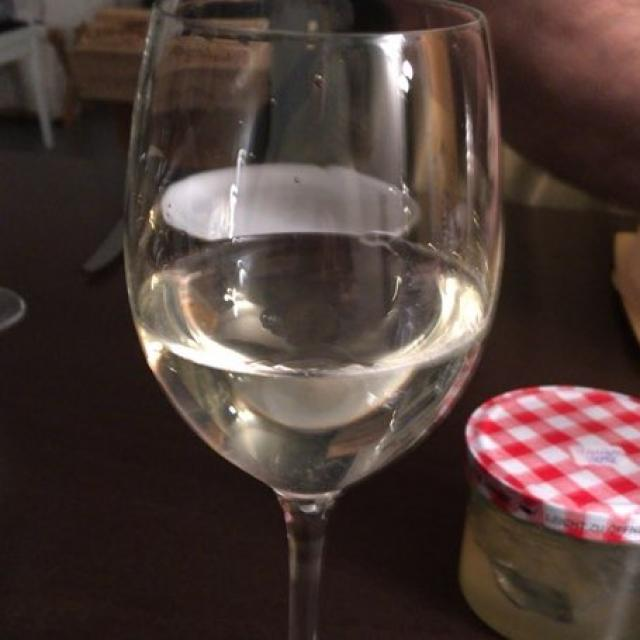wine-white: (126, 238, 480, 501)
